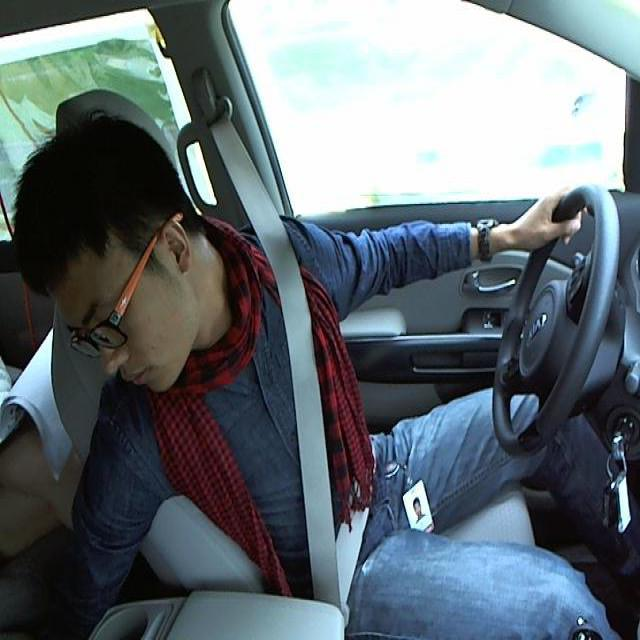seatbelt: (250, 225, 380, 615)
